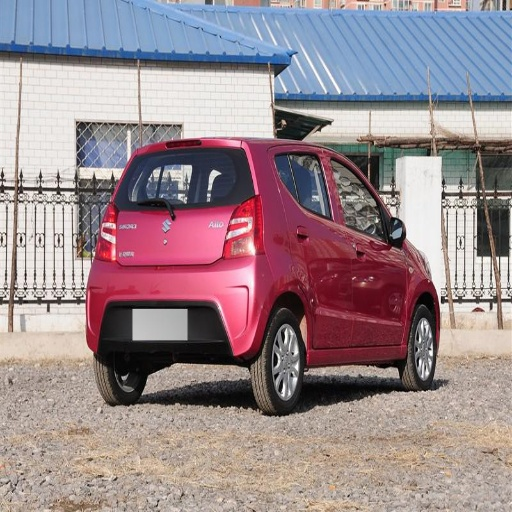back_bumper: (90, 257, 270, 357)
back_right_door: (281, 150, 354, 348)
trunk: (107, 208, 241, 301)
